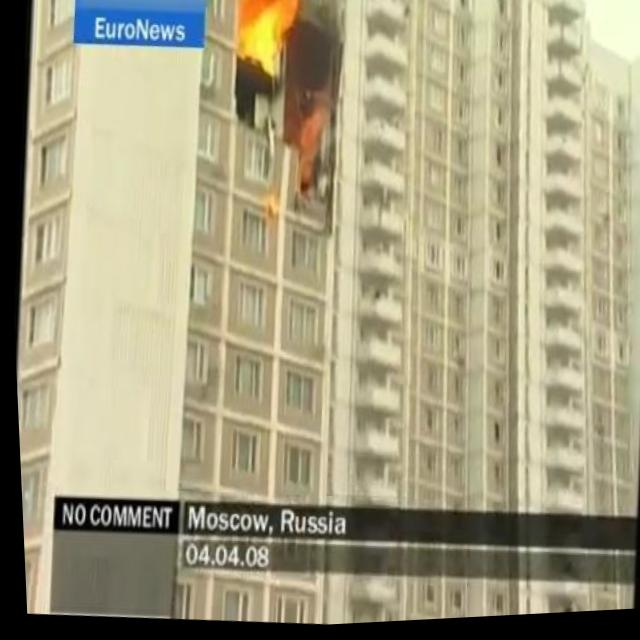fire: (229, 0, 304, 87), (294, 103, 327, 195)
